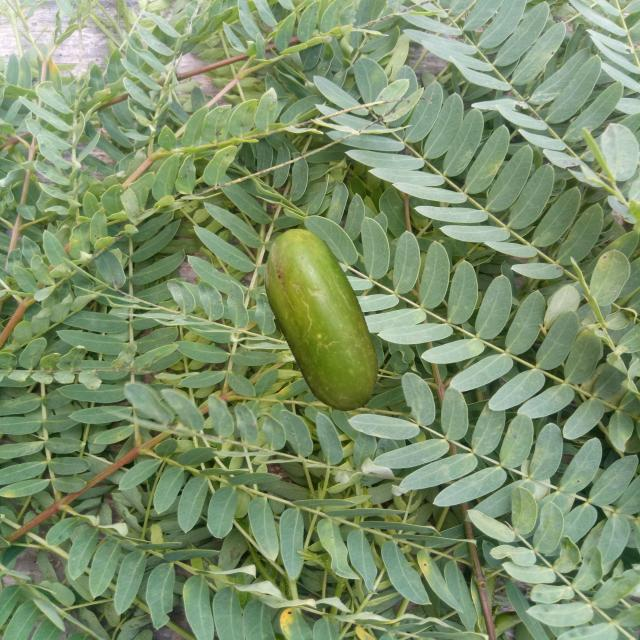Pepaya unrippen: (259, 228, 386, 413)
